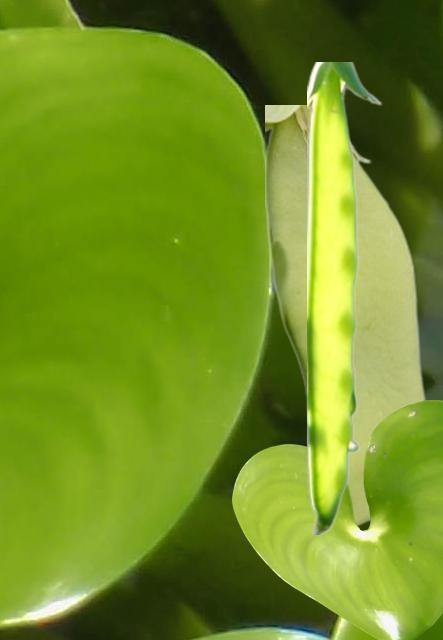pea: (265, 105, 427, 592), (307, 62, 381, 533)
